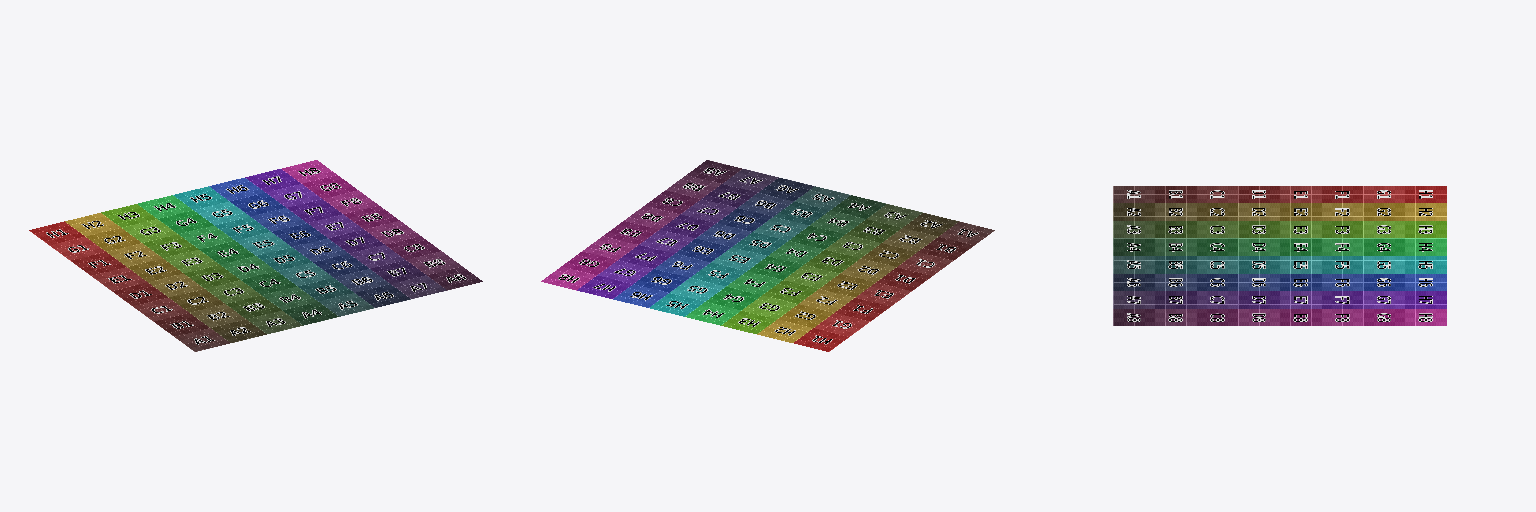
The picture shows the model from 3 angles: view 1: azimuth 30°, elevation 25°; view 2: azimuth 150°, elevation 25°; view 3: azimuth 270°, elevation 25°; orthographic projection.
Parts seen in each view (by area): view 1: Plane; view 2: Plane; view 3: Plane.
Boxes of the visible parts, x1,y1,x2,y2 form: Plane: [29, 160, 482, 351]; Plane: [541, 160, 994, 351]; Plane: [1113, 186, 1446, 325].
Size of the model in its own units: 20 by 0 by 20.
Materials: 1 (1 with a texture image).